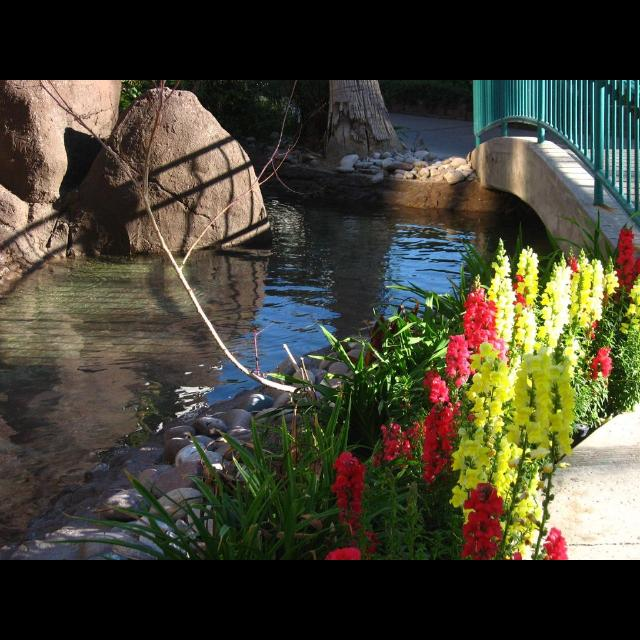Flower: (424, 220, 640, 560), (332, 452, 366, 524), (374, 421, 420, 465), (545, 526, 565, 558), (328, 548, 360, 560)
